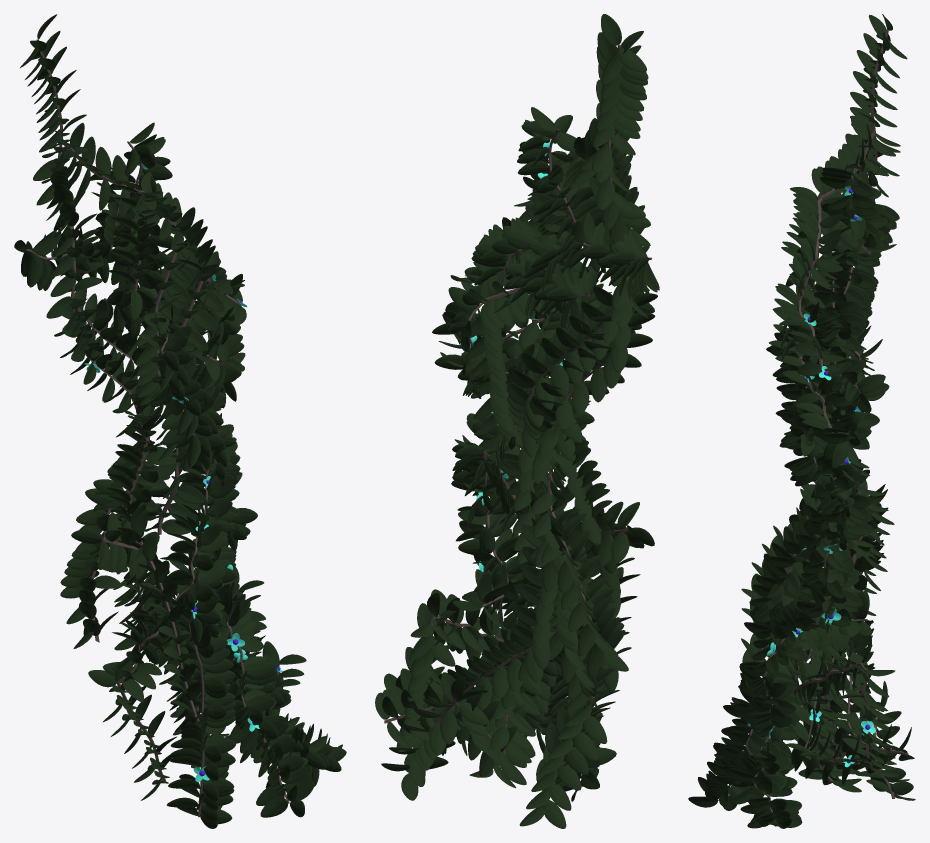
The model's file is plantas.fbx.
3 renders of one model, left to right at view 1: azimuth 30°, elevation 25°; view 2: azimuth 150°, elevation 25°; view 3: azimuth 270°, elevation 25°, orthographic. The views are drawn at different scales.
Parts seen in each view (by area): view 1: vine 1, vine 2, flowers; view 2: vine 1, vine 2; view 3: vine 1, flowers, vine 2.
Boxes of the visible parts, x1,y1,x2,y2 form: vine 1: [36, 39, 278, 782]; vine 2: [26, 141, 289, 817]; flowers: [84, 164, 282, 781]; vine 1: [384, 44, 628, 787]; vine 2: [467, 129, 651, 786]; vine 1: [755, 29, 908, 798]; flowers: [747, 186, 875, 767]; vine 2: [718, 168, 867, 821].
Size of what is drawn, in the model's own units: 105 by 291 by 81.08.
